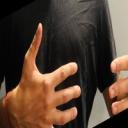hand: (1, 21, 81, 127), (109, 55, 128, 115)
